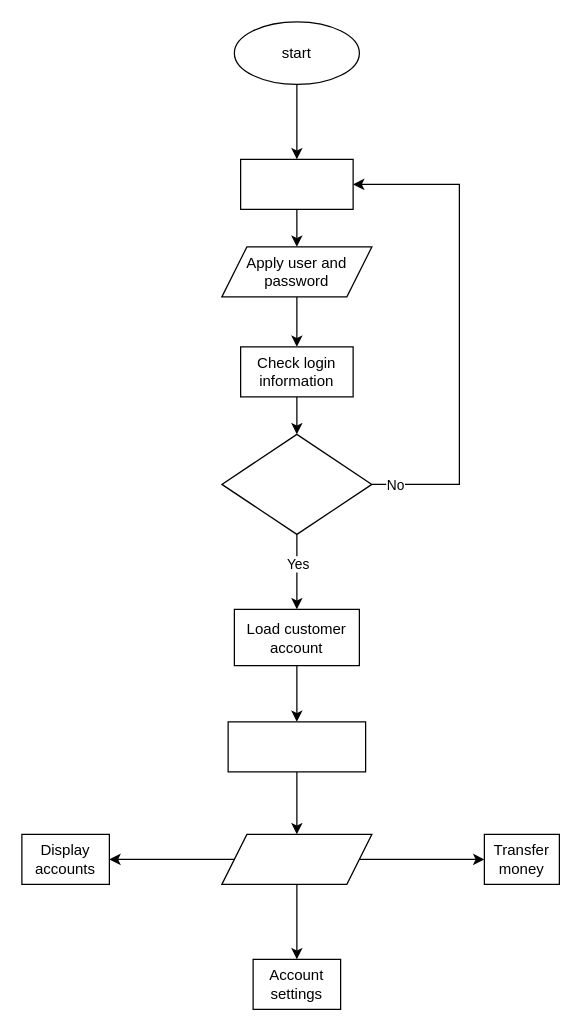
Some shapes in this 581 by 1031 pixel diagram are drawn without their labels. The shapes that lost their labels are listed below. From the top down, each one's box as (x1, y1, x2, y2) in pixels, then its label:
(239, 158, 353, 209): Login display
(221, 433, 372, 534): Is the person a customer?
(227, 721, 366, 772): Display homepage
(221, 833, 372, 884): Select function in menu
